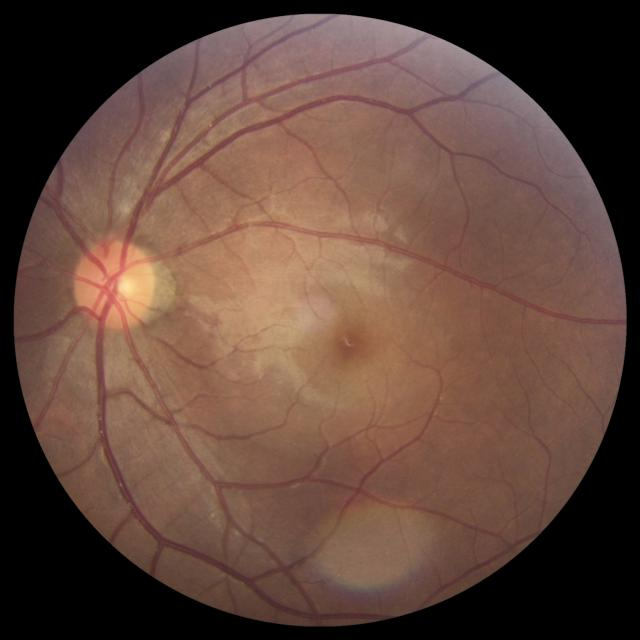OC: (105, 270, 137, 302)
OD: (72, 240, 156, 330)
